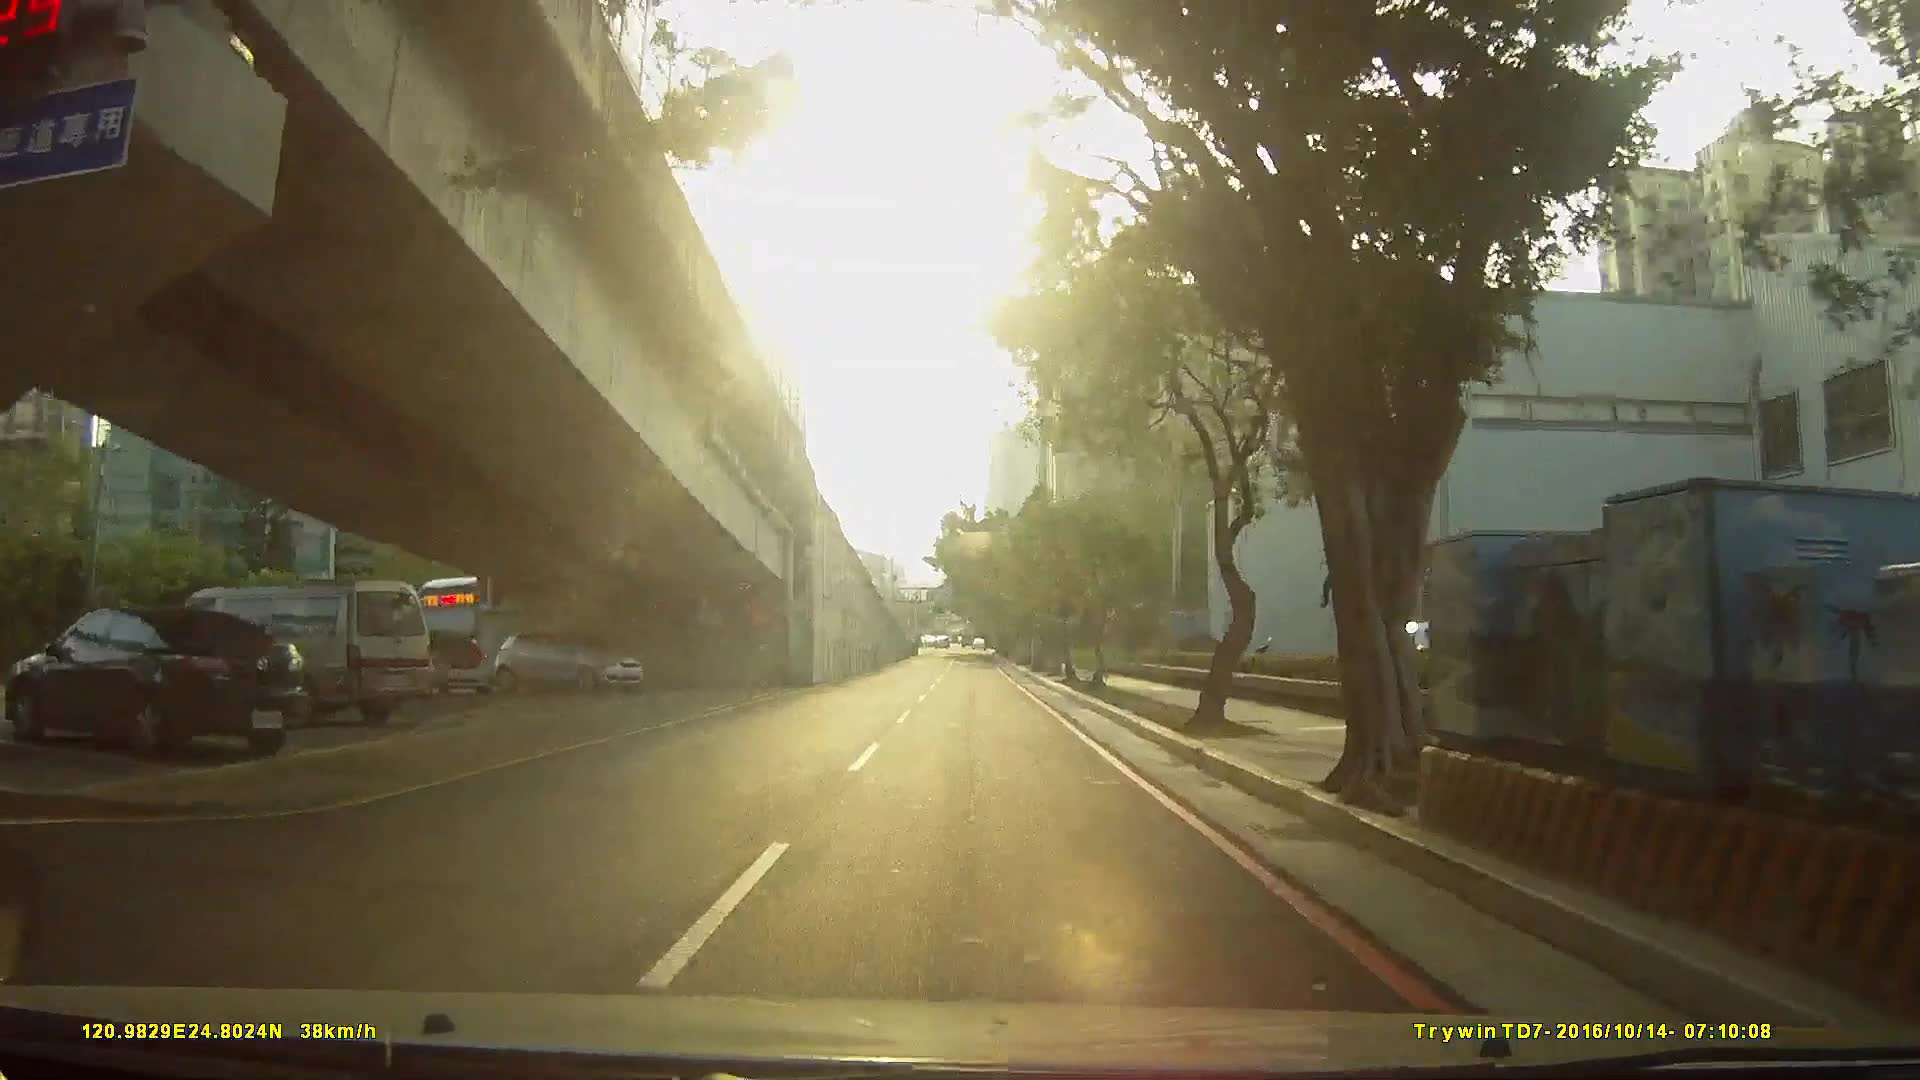vehicle: (1, 587, 319, 760), (145, 568, 423, 732), (487, 622, 642, 694), (384, 624, 491, 698)
